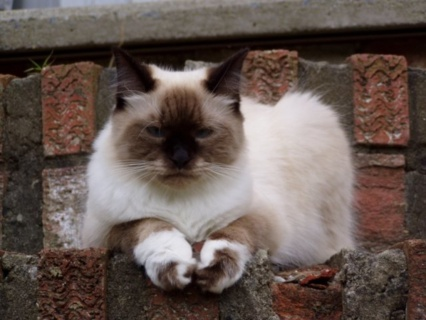Cat: (77, 43, 358, 293)
